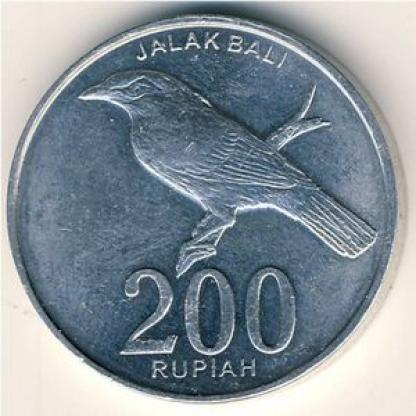coin_200_e2003: (9, 13, 402, 404)
